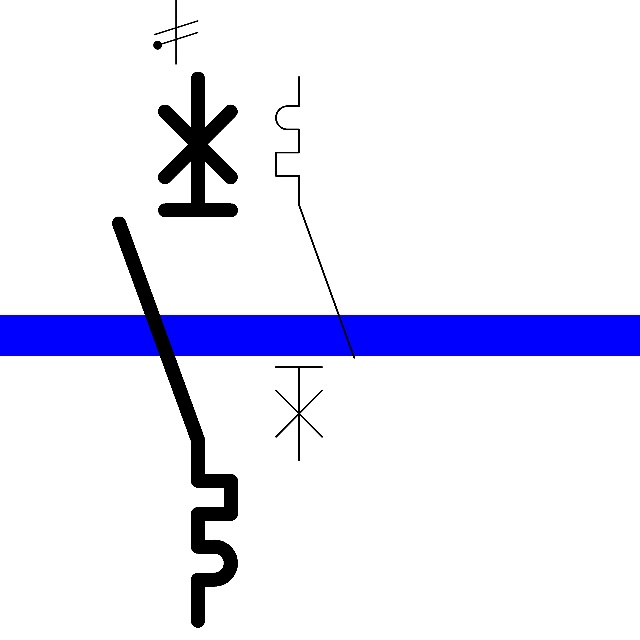interruptor_termomagnetico: (105, 64, 245, 635), (266, 67, 364, 470)
